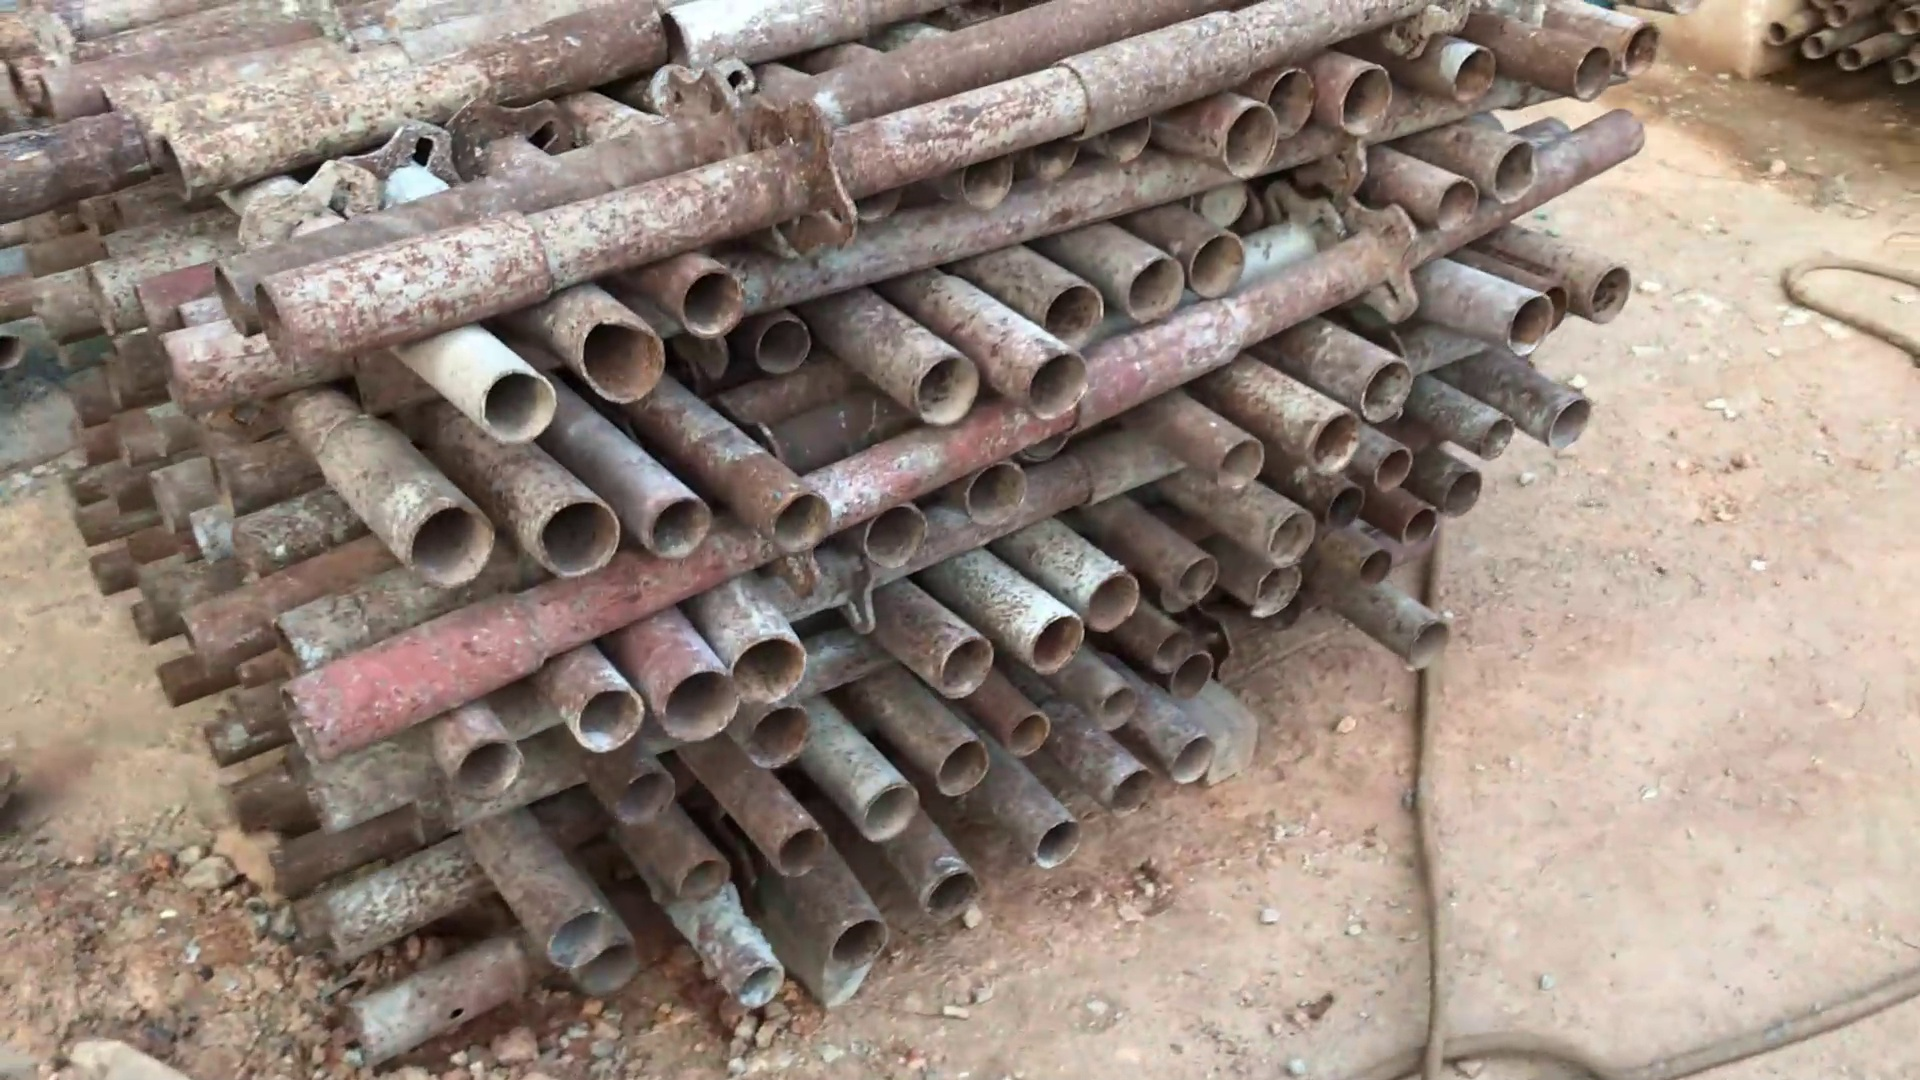scaffold: (1, 1, 1681, 1073)
